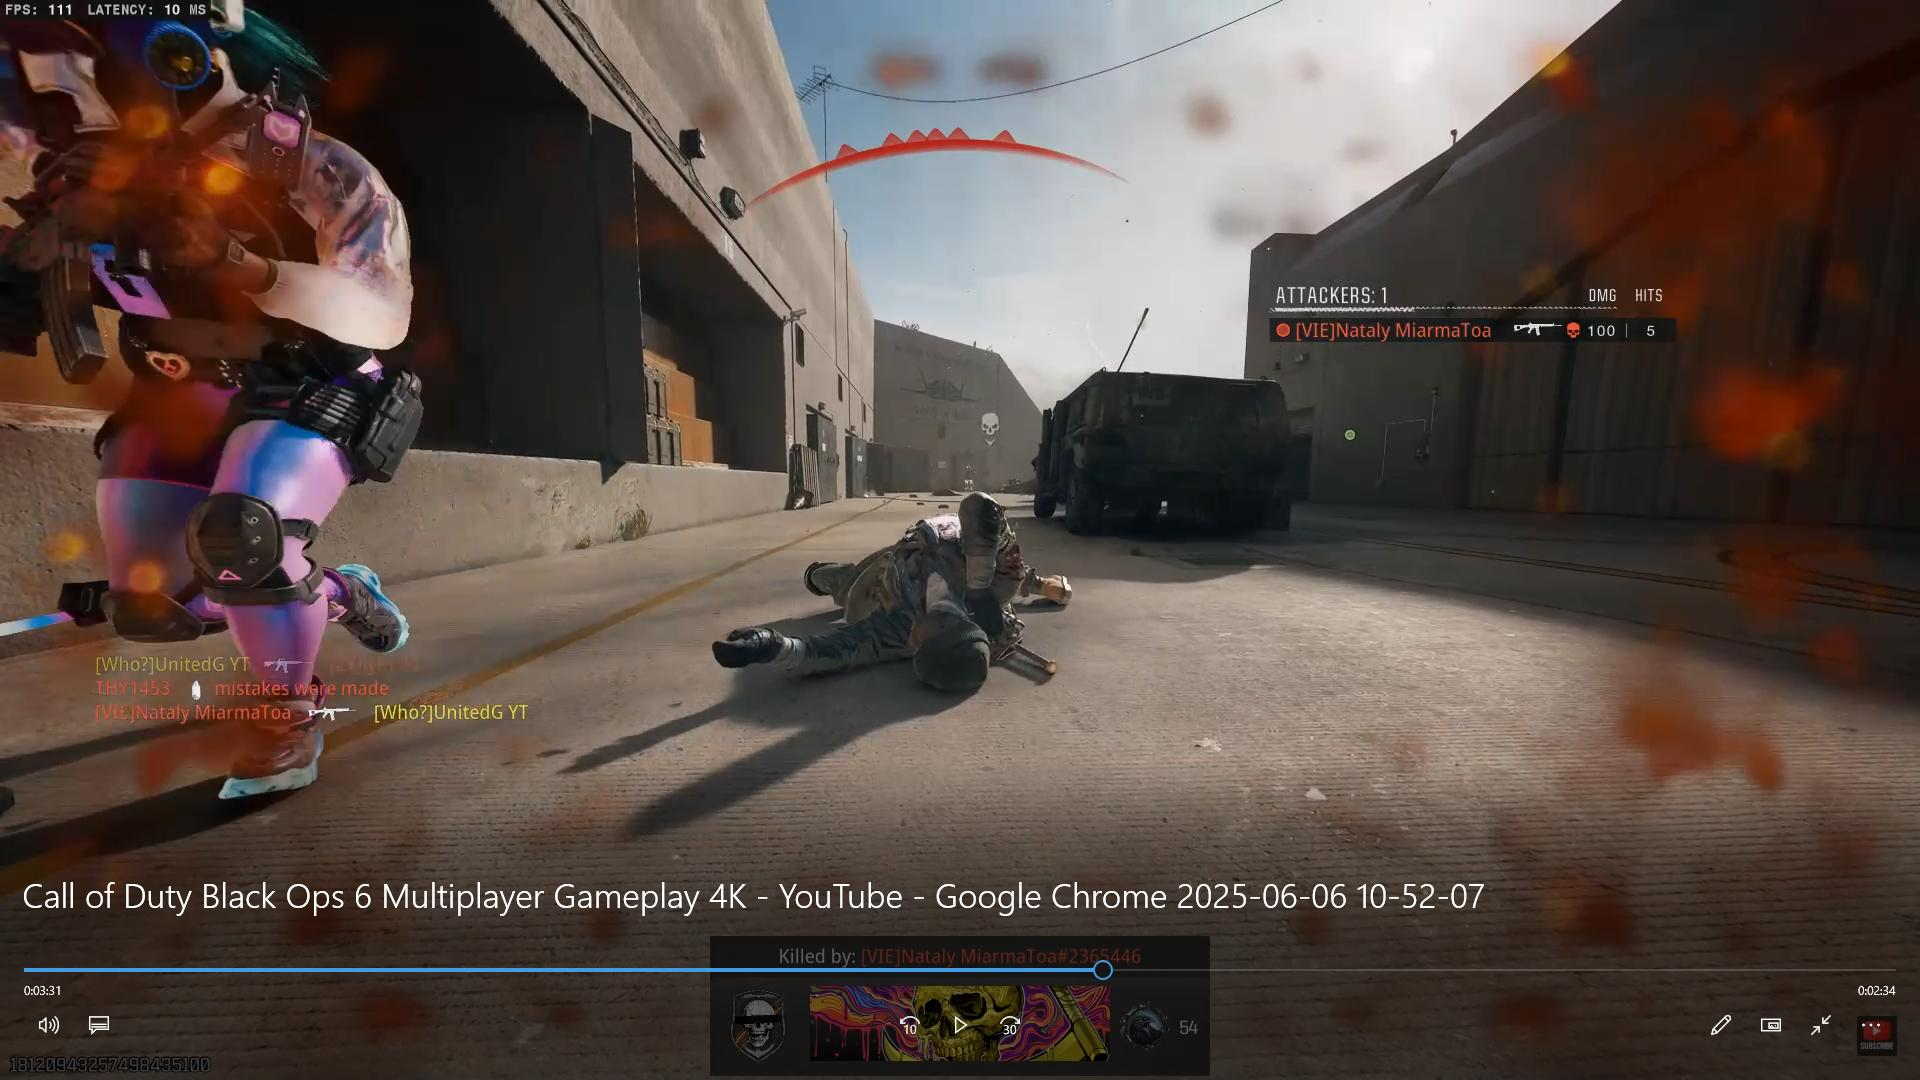Enemy: (7, 20, 472, 655)
